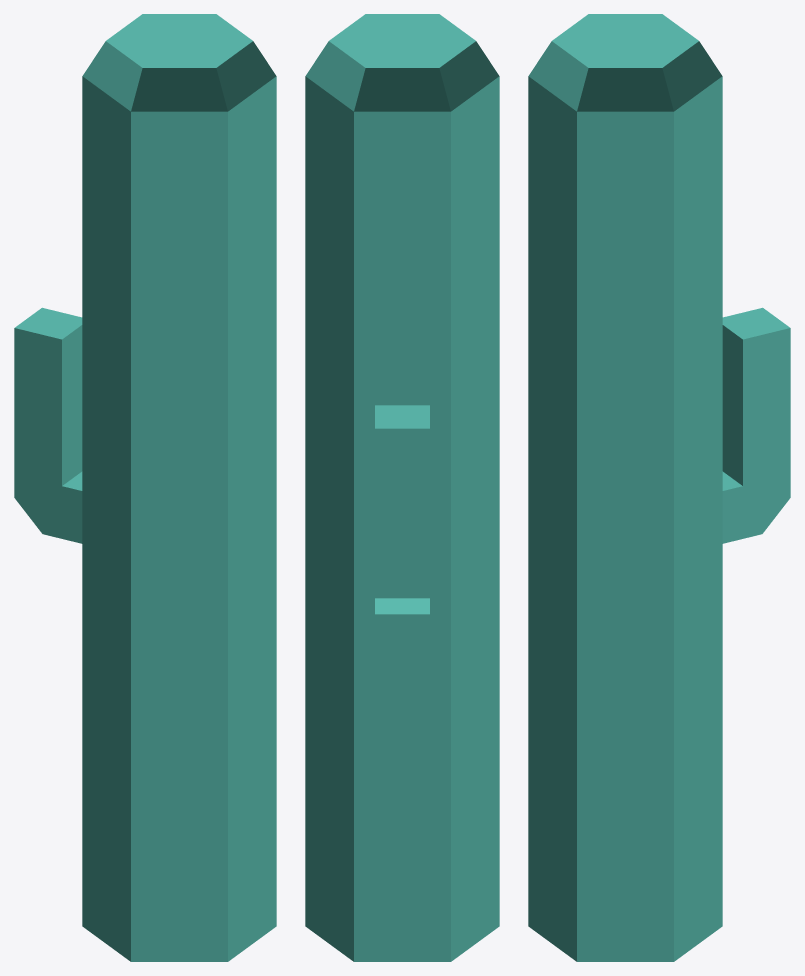
The model's file is cactus_large.obj.
3 views of the same model, side by side, from view 1: azimuth 30°, elevation 25°; view 2: azimuth 150°, elevation 25°; view 3: azimuth 270°, elevation 25° (orthographic).
Visible parts, largest first — view 1: cactus_large; view 2: cactus_large; view 3: cactus_large.
Part boxes in pixels (bbox=[...]): cactus_large: bbox=[14, 14, 276, 961]; cactus_large: bbox=[305, 14, 499, 961]; cactus_large: bbox=[528, 14, 790, 961].
Bounding box in the file's own units: 1.16 × 5.8 × 1.56.
